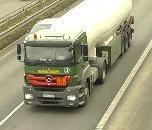Truck: (16, 0, 135, 109)
